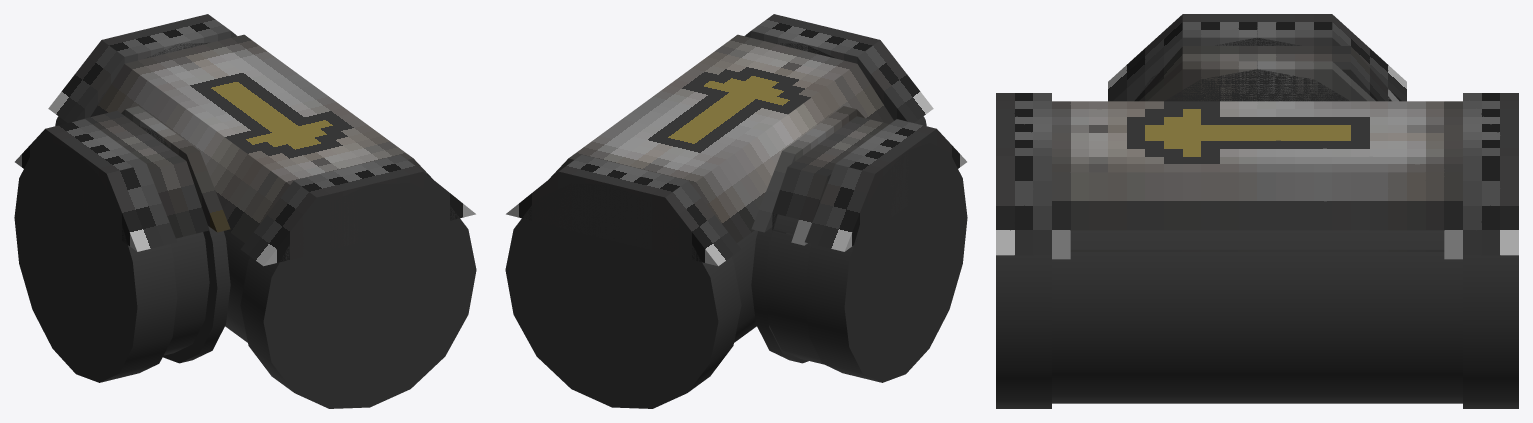
Rendered from CMU3DDisposalJunctionLoose.glb.
3 renders of one model, left to right at view 1: azimuth 30°, elevation 25°; view 2: azimuth 150°, elevation 25°; view 3: azimuth 270°, elevation 25°, orthographic. The views are drawn at different scales.
Parts seen in each view (by area): view 1: south construction coupling rim round core, west construction coupling rim round core, main barrel and south arrow source crown 1, main barrel and south arrow source crown 0, south construction coupling rim source crown 1, west construction coupling rim source crown 2, south construction coupling rim source crown 0, west construction coupling rim source crown 1, west branch barrel round core, north construction coupling rim source crown 1, west branch weld round core, north construction coupling rim source crown 0 (+6 smaller); view 2: north construction coupling rim round core, west construction coupling rim round core, main barrel and south arrow source crown 1, main barrel and south arrow source crown 0, north construction coupling rim source crown 1, west branch barrel round core, west construction coupling rim source crown 0, north construction coupling rim source crown 0, west construction coupling rim source crown 1, south construction coupling rim source crown 1, south construction coupling rim source crown 0, west branch barrel source crown 0 (+6 smaller); view 3: main barrel and south arrow round core, main barrel and south arrow source crown 1, main barrel and south arrow source crown 2, north construction coupling rim round core, south construction coupling rim round core, north construction coupling rim source crown 2, south construction coupling rim source crown 2, west construction coupling rim source crown 1, west branch weld source crown 1, west branch weld round core, north construction coupling rim source crown 1, south construction coupling rim source crown 1 (+8 smaller).
Boxes of the visible parts, x1,y1,x2,y2 form: south construction coupling rim round core: (240,183,476,408); west construction coupling rim round core: (14,142,177,382); main barrel and south arrow source crown 1: (125,34,413,184); main barrel and south arrow source crown 0: (90,64,289,242); south construction coupling rim source crown 1: (294,155,423,252); west construction coupling rim source crown 2: (106,164,176,251); south construction coupling rim source crown 0: (240,181,316,266); west construction coupling rim source crown 1: (45,119,145,228); west branch barrel round core: (163,232,209,355); north construction coupling rim source crown 1: (102,14,230,63); west branch weld round core: (139,125,230,363); north construction coupling rim source crown 0: (48,40,124,122); north construction coupling rim round core: (505,183,741,408); west construction coupling rim round core: (804,142,967,382); main barrel and south arrow source crown 1: (568,34,856,184); main barrel and south arrow source crown 0: (692,64,893,242); north construction coupling rim source crown 1: (558,155,687,252); west branch barrel round core: (764,214,823,364); west construction coupling rim source crown 0: (805,164,875,251); north construction coupling rim source crown 0: (665,181,741,266); west construction coupling rim source crown 1: (836,119,936,218); south construction coupling rim source crown 1: (751,14,879,63); south construction coupling rim source crown 0: (857,40,933,122); west branch barrel source crown 0: (772,167,827,245); main barrel and south arrow round core: (1052,230,1462,403); main barrel and south arrow source crown 1: (1052,101,1462,172); main barrel and south arrow source crown 2: (1052,172,1462,259); north construction coupling rim round core: (1463,255,1518,408); south construction coupling rim round core: (996,255,1051,408); north construction coupling rim source crown 2: (1463,156,1518,255); south construction coupling rim source crown 2: (996,156,1051,255); west construction coupling rim source crown 1: (1182,14,1332,45); west branch weld source crown 1: (1182,61,1332,101); west branch weld round core: (1165,61,1349,101); north construction coupling rim source crown 1: (1463,93,1518,155); south construction coupling rim source crown 1: (996,93,1051,155).
Size of the model in its own units: 0.6875 by 0.5 by 0.875.
Materials: 16 (15 with a texture image).
